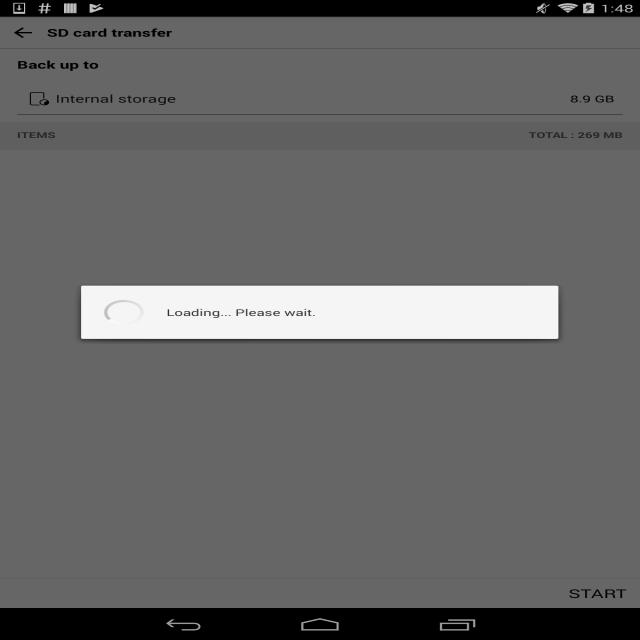Button: (563, 579, 632, 608)
CheckBox: (13, 196, 47, 218), (13, 158, 47, 179), (13, 235, 47, 256)
ImageView: (0, 18, 47, 47), (26, 83, 51, 114), (593, 196, 627, 218), (593, 158, 627, 179), (593, 235, 627, 256)
Spinner: (17, 84, 623, 115)
TextView: (0, 56, 640, 72), (56, 91, 570, 106), (66, 161, 544, 176), (66, 200, 523, 214), (66, 238, 523, 252), (528, 122, 640, 148), (0, 122, 73, 148), (47, 25, 173, 40), (528, 239, 580, 252), (528, 201, 580, 213), (570, 92, 615, 105), (549, 162, 580, 175)
